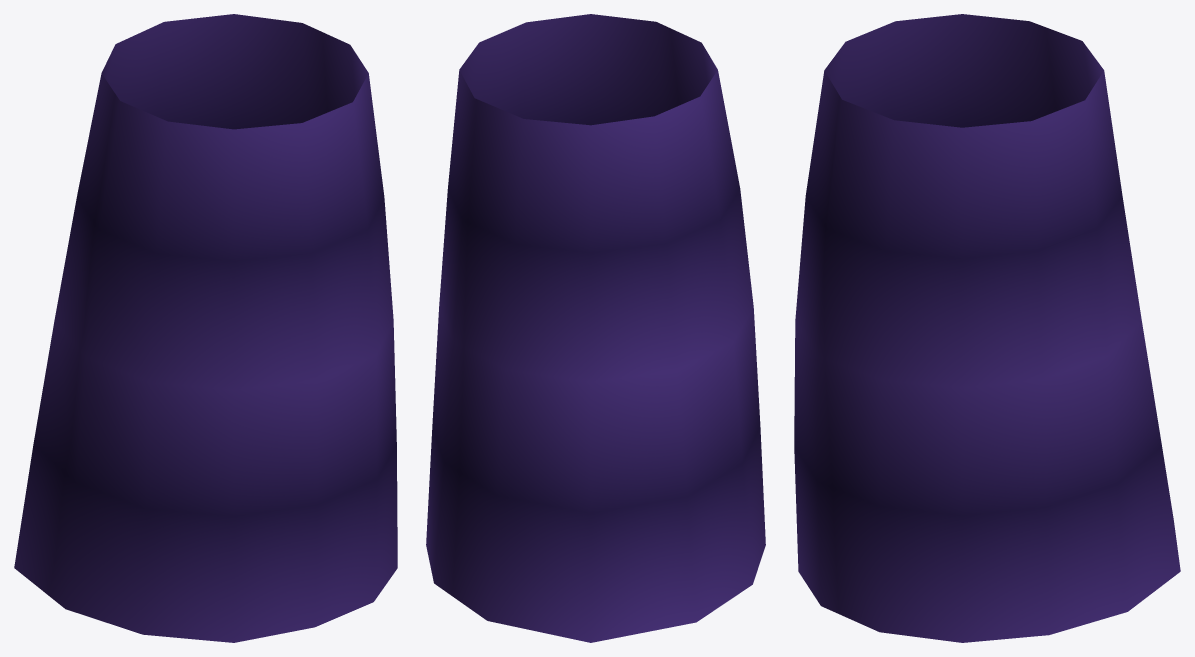
File: beetle_armor_cuisse.R.glb
3 renders of one model, left to right at view 1: azimuth 30°, elevation 25°; view 2: azimuth 150°, elevation 25°; view 3: azimuth 270°, elevation 25°, orthographic. The views are drawn at different scales.
Parts seen in each view (by area): view 1: beetle_armor_cuisse.R; view 2: beetle_armor_cuisse.R; view 3: beetle_armor_cuisse.R.
Part boxes in pixels (x1=…): beetle_armor_cuisse.R: x1=14, y1=14, x2=397, y2=642; beetle_armor_cuisse.R: x1=426, y1=14, x2=765, y2=642; beetle_armor_cuisse.R: x1=794, y1=14, x2=1180, y2=642.
Size of the model in its own units: 0.2449 by 0.37 by 0.2586.
